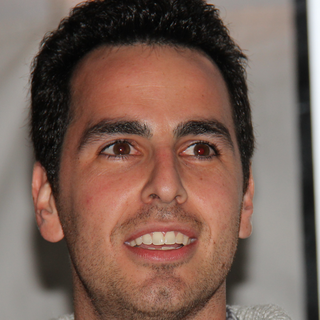eye: (171, 138, 227, 166), (91, 138, 146, 164)
